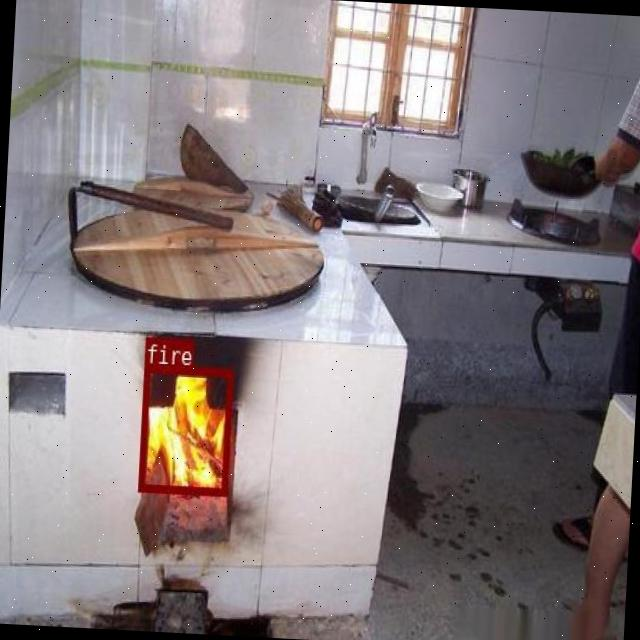fire: (138, 365, 232, 494)
